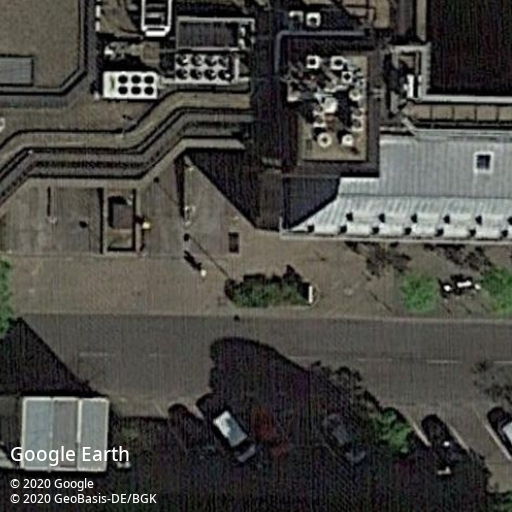Chiller: (174, 53, 233, 84), (103, 71, 158, 97), (312, 101, 326, 128), (350, 108, 364, 131), (316, 131, 333, 147), (330, 55, 345, 71), (306, 54, 319, 70), (341, 71, 353, 85)
